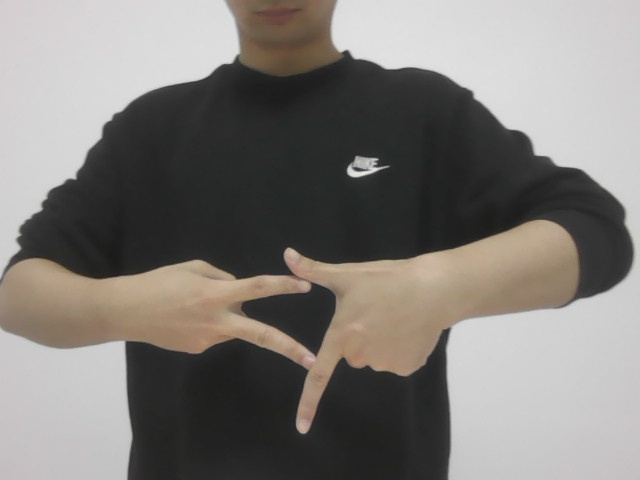introduce: (136, 239, 442, 445)
